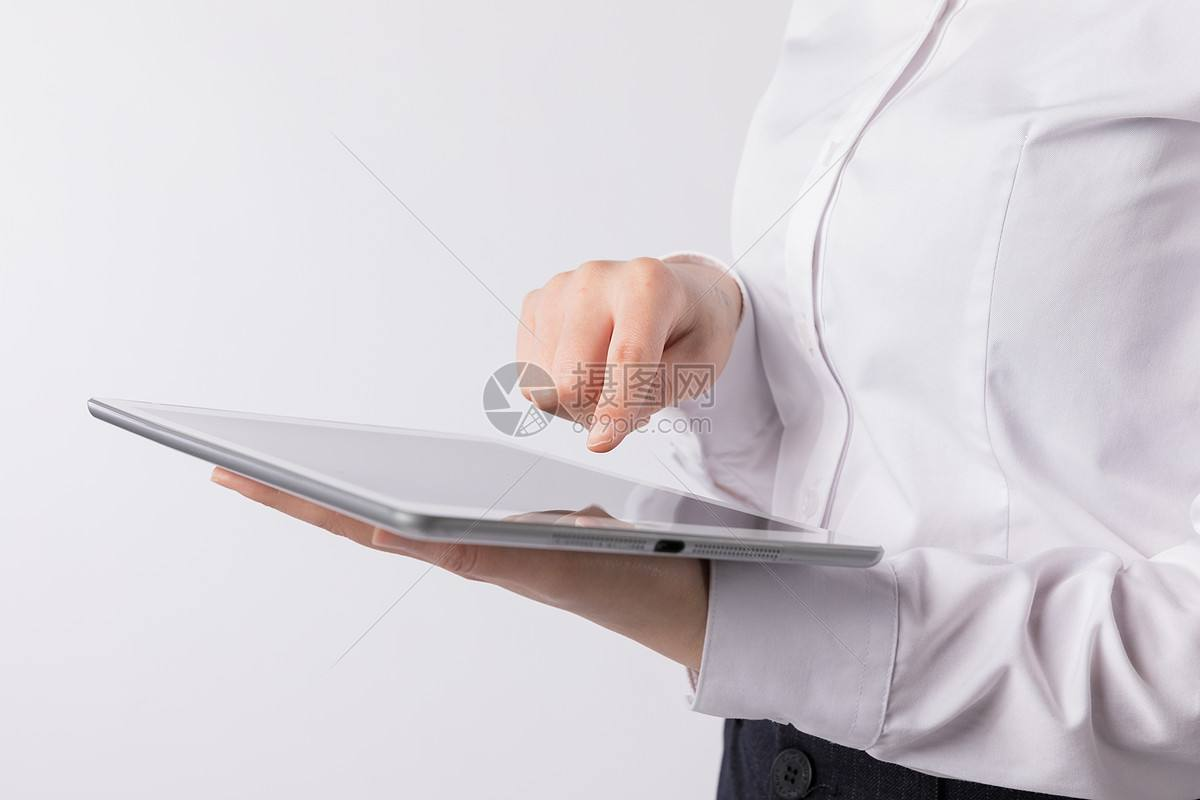pad: (78, 388, 885, 707)
